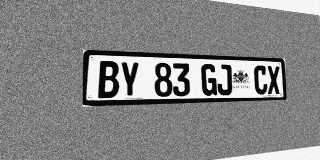3: (173, 63, 190, 96)
8: (154, 62, 172, 97)
B: (98, 61, 119, 98)
C: (254, 65, 267, 95)
G: (201, 64, 217, 96)
J: (217, 64, 232, 95)
X: (267, 66, 280, 94)
Y: (120, 61, 139, 98)
